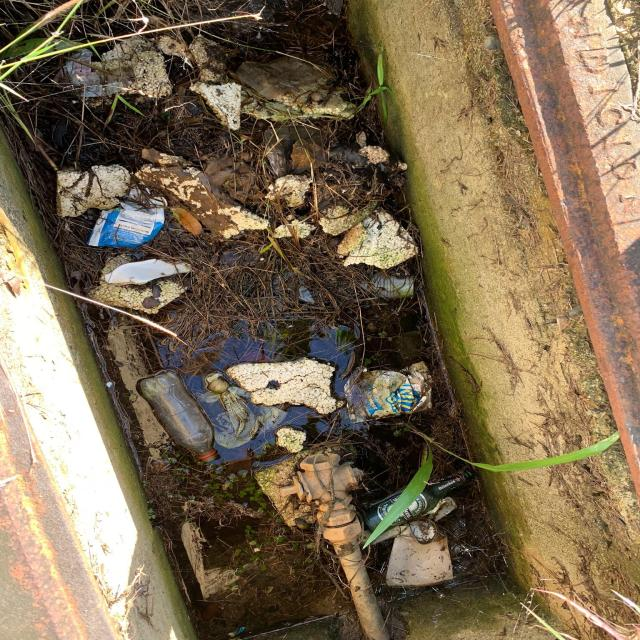litter: (280, 453, 392, 639), (138, 172, 262, 237), (140, 370, 217, 462), (366, 470, 473, 535), (342, 361, 434, 424), (208, 376, 288, 445), (230, 364, 330, 411), (88, 190, 163, 250), (342, 212, 414, 272), (55, 165, 130, 219), (388, 521, 450, 585), (53, 55, 126, 97), (191, 82, 240, 132)
